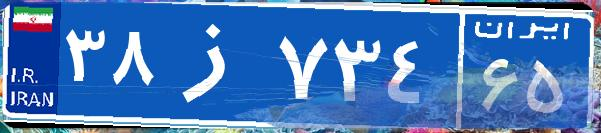3: (330, 28, 385, 110), (57, 26, 110, 107)
4: (385, 28, 445, 110)
5: (525, 38, 570, 115)
6: (475, 38, 525, 113)
7: (273, 28, 330, 110)
8: (110, 28, 158, 105)
ز: (158, 15, 273, 115)
